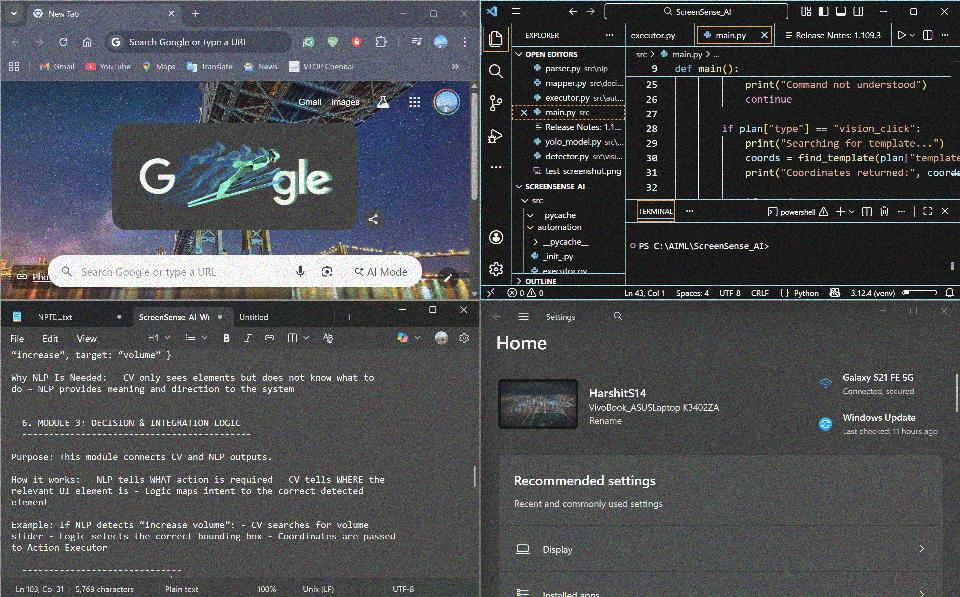close_button: (453, 2, 476, 24), (933, 302, 954, 321), (454, 304, 475, 322), (934, 3, 953, 20)
maximize_button: (423, 1, 446, 25), (904, 1, 925, 22), (903, 302, 925, 320), (426, 302, 446, 321)
minimize_button: (393, 2, 418, 26), (872, 2, 897, 21), (393, 303, 416, 323), (873, 302, 894, 319)
